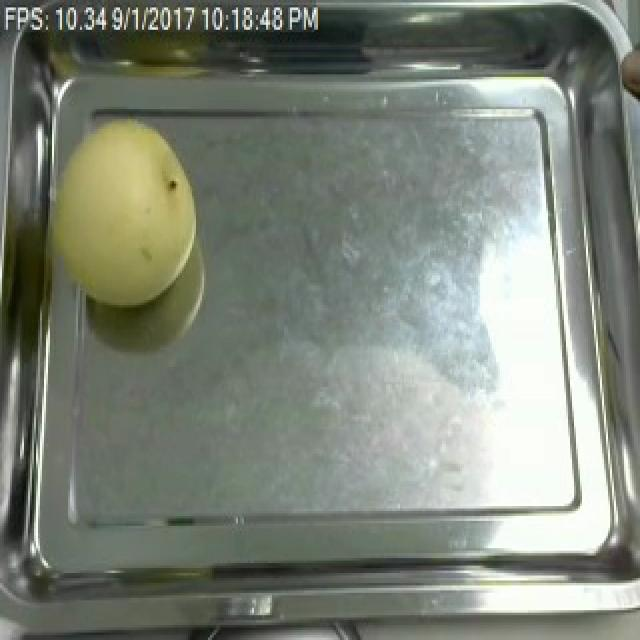Fruit: (44, 109, 210, 318), (618, 32, 640, 122)
